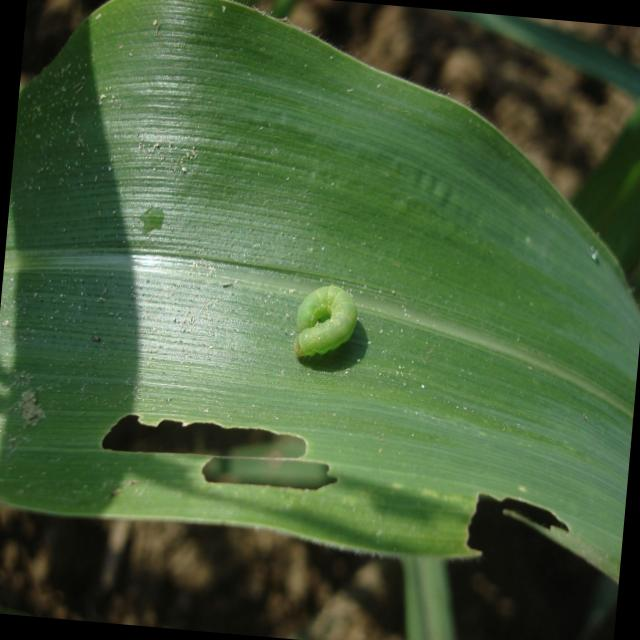pest: (297, 285, 365, 362)
